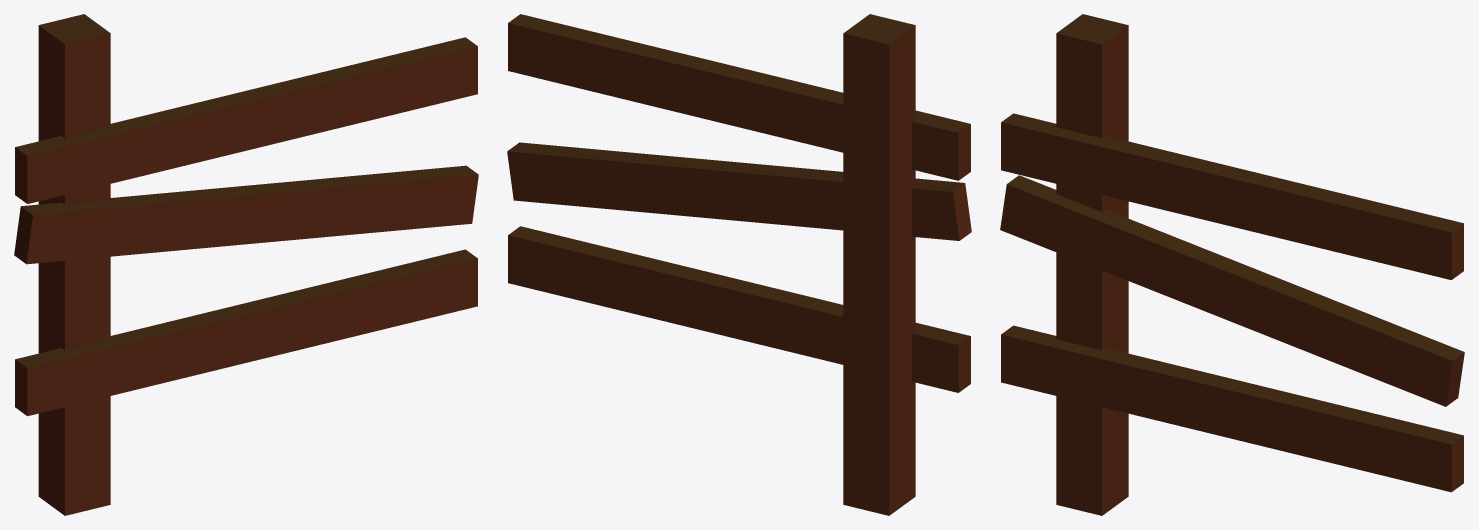
File: fence_variation_002.fbx
3 renders of one model, left to right at view 1: azimuth 30°, elevation 25°; view 2: azimuth 150°, elevation 25°; view 3: azimuth 330°, elevation 25°, orthographic.
Visible parts, largest first — view 1: Fence_variation.001; view 2: Fence_variation.001; view 3: Fence_variation.001.
Part boxes in pixels (x1,y1,x2,y2): Fence_variation.001: (14,14,478,515); Fence_variation.001: (507,14,971,515); Fence_variation.001: (1000,14,1464,515).
Bounding box in the file's own units: 201 × 200 × 27.13.
